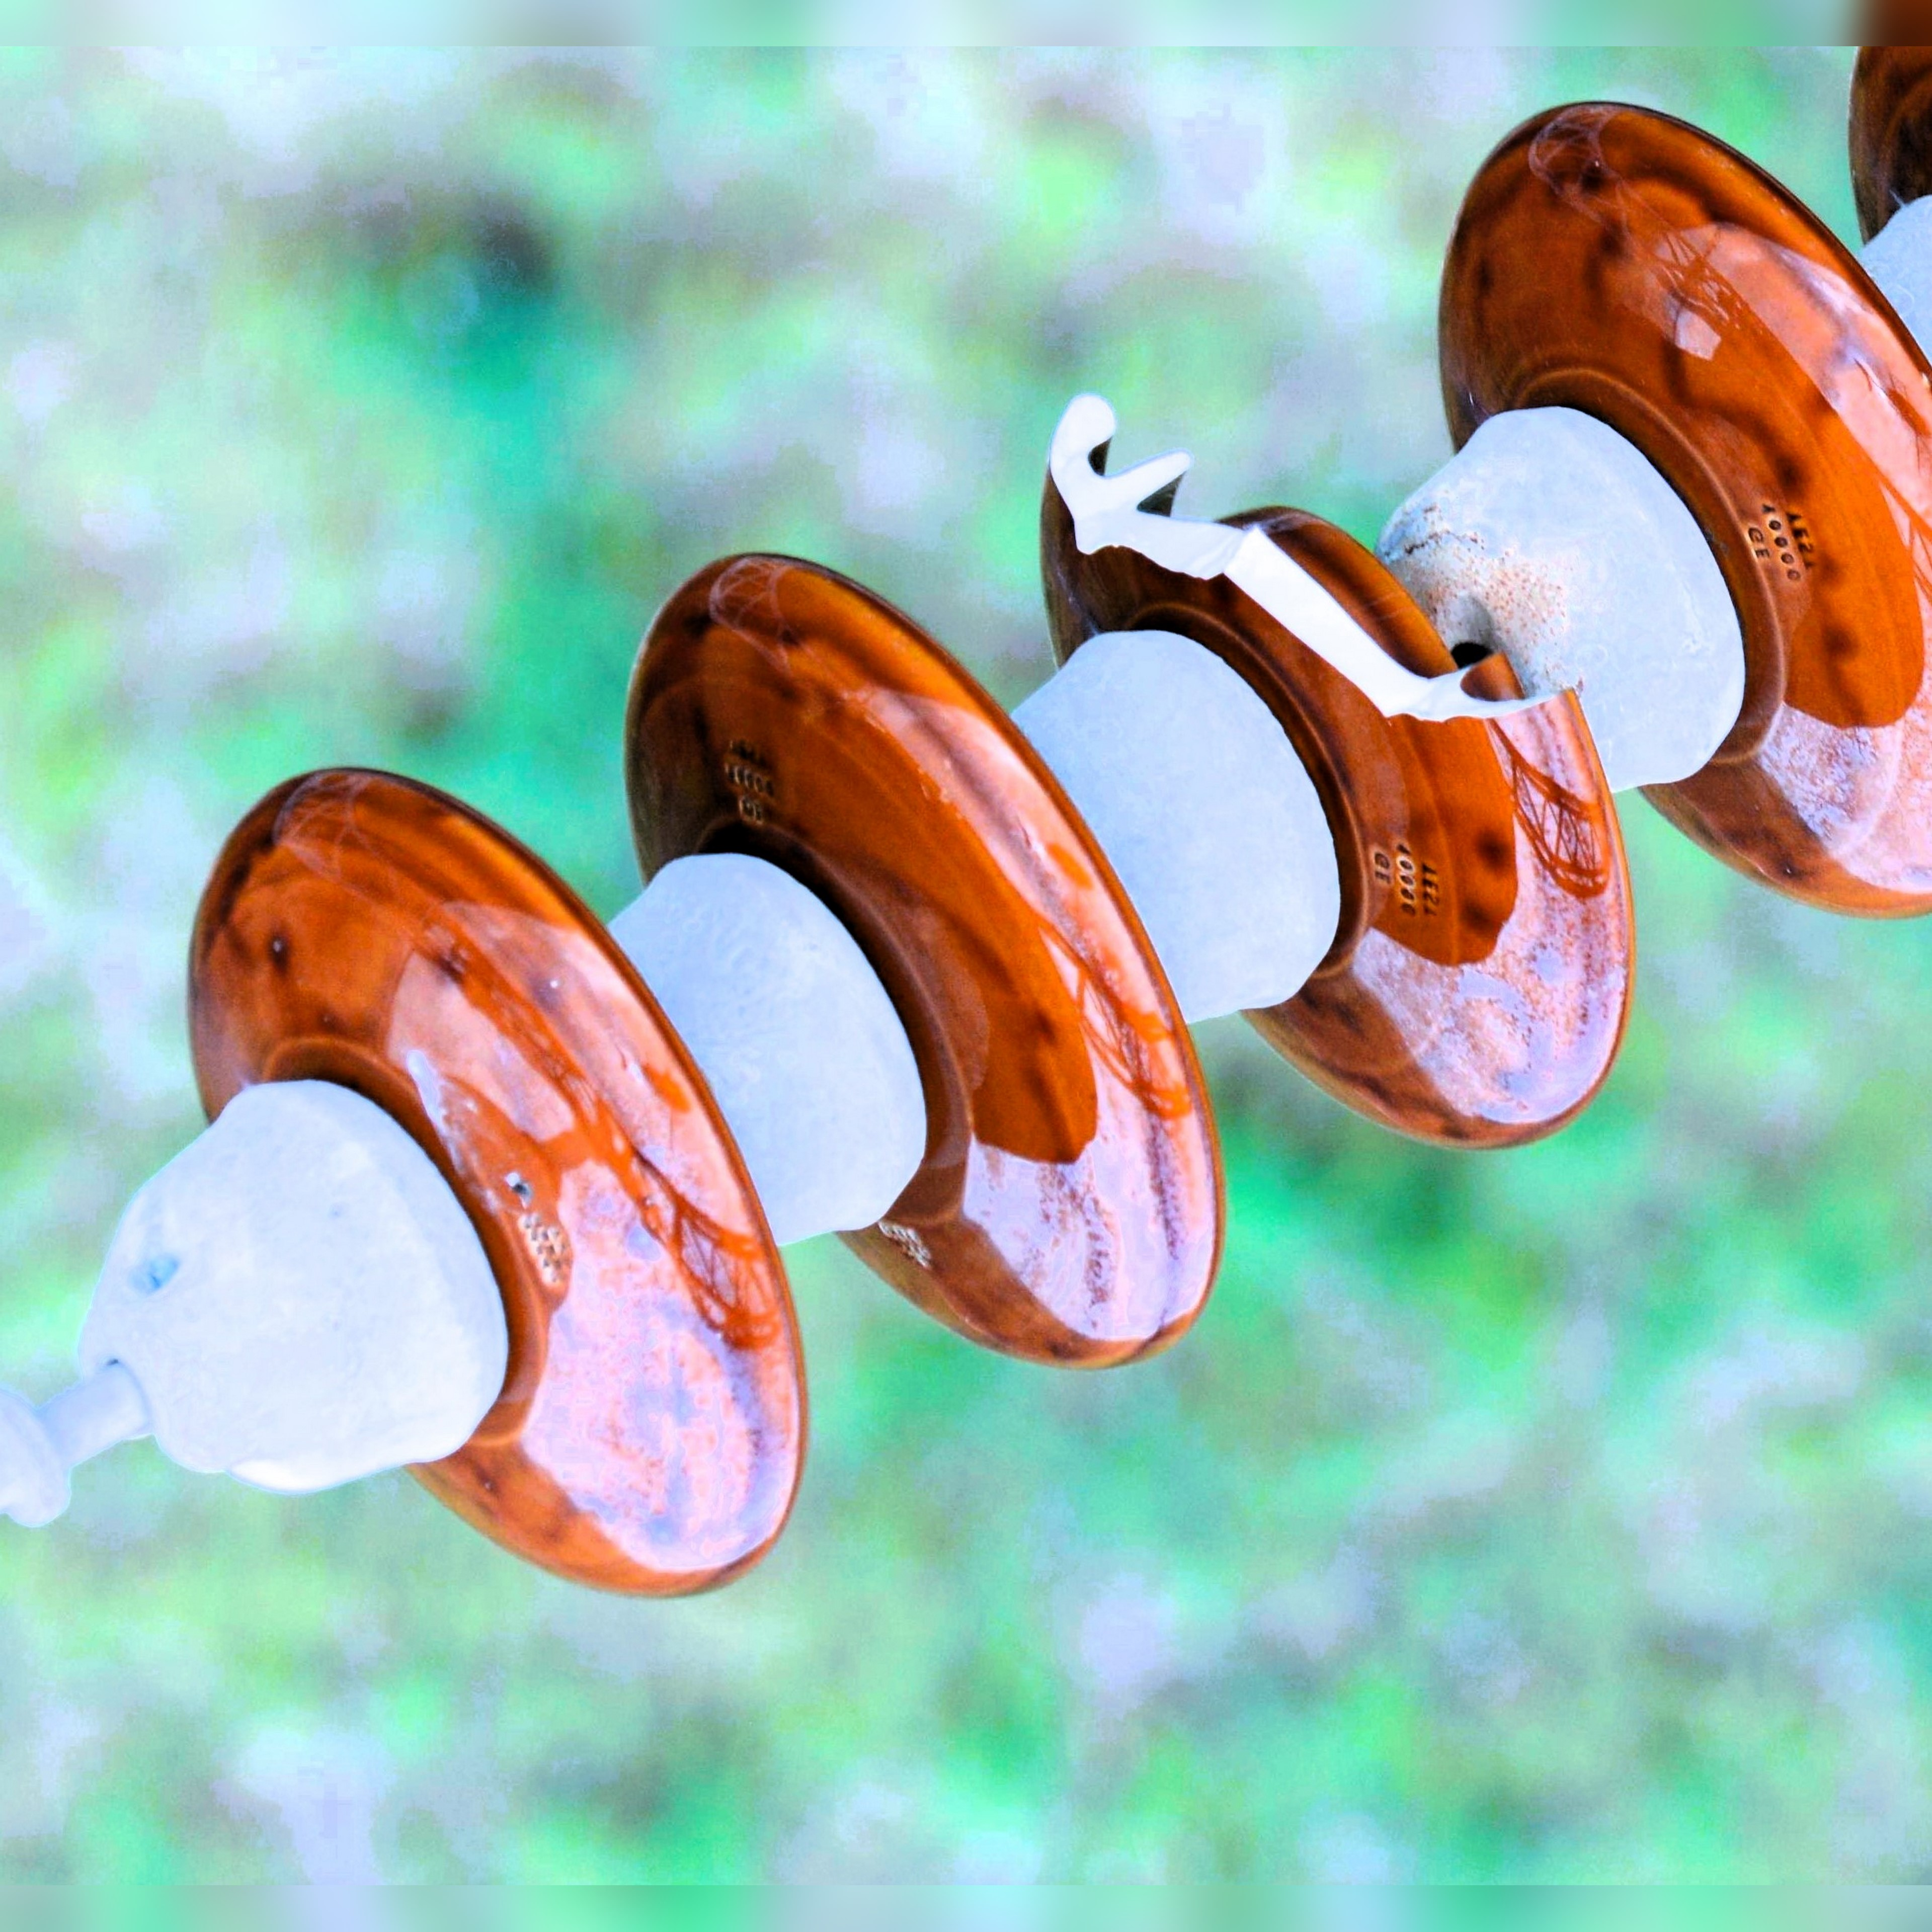insulator breakage: (1001, 368, 1688, 1157)
